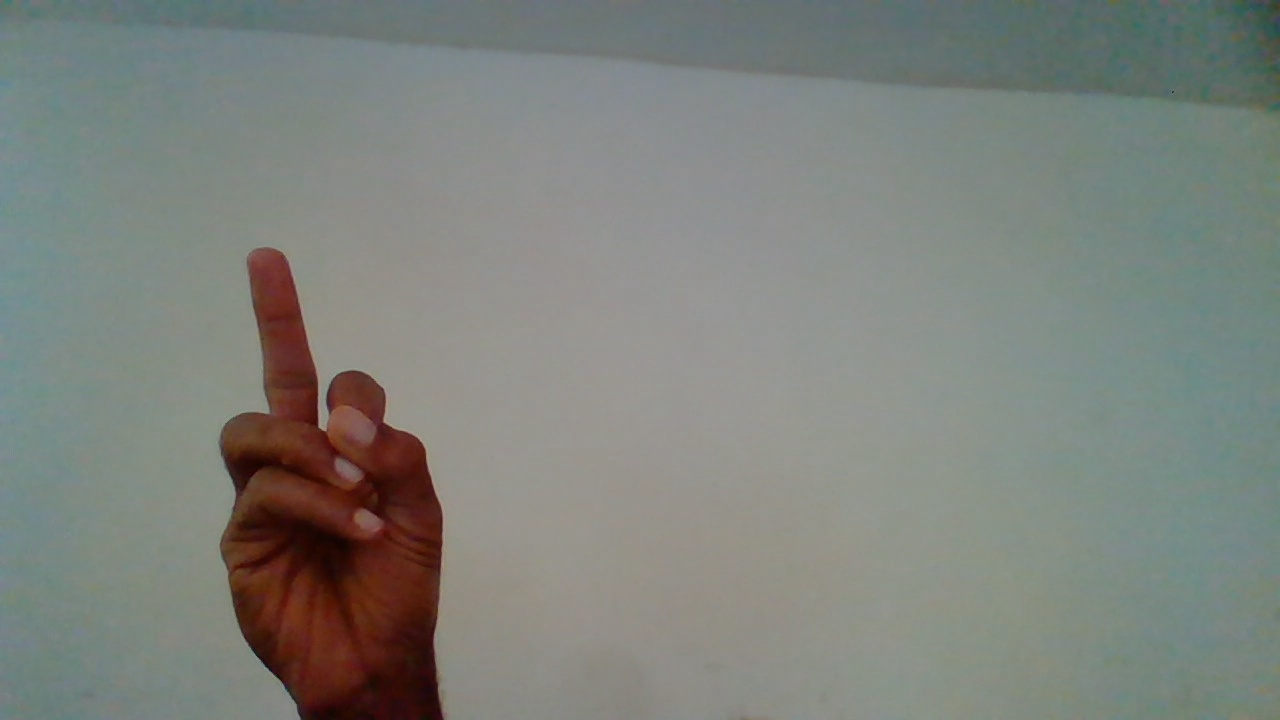he: (215, 241, 451, 720)
